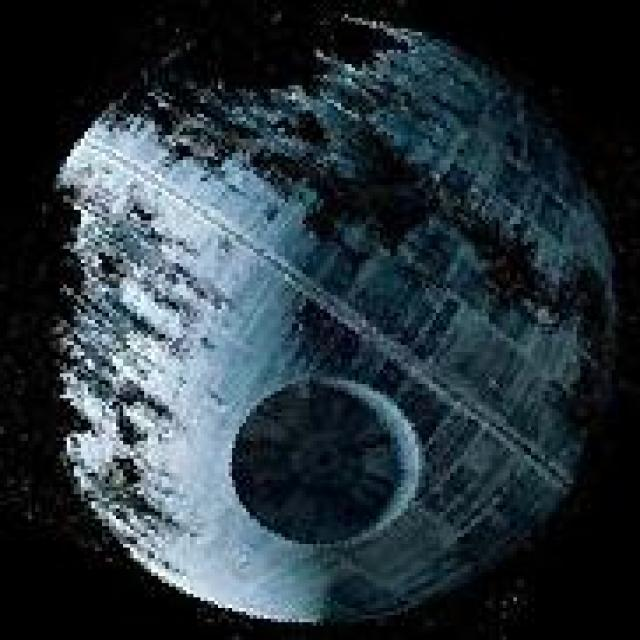Death Star: (35, 0, 626, 629)
